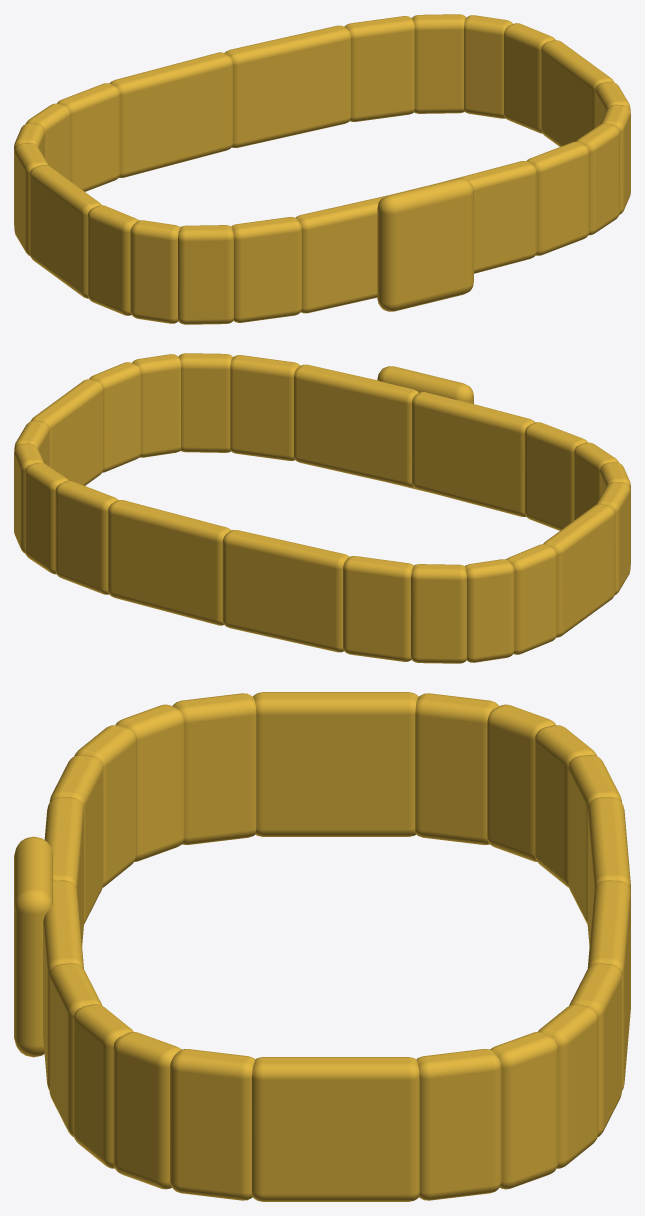
File: gold-belt.glb
3 views of the same model, one above another, from view 1: azimuth 30°, elevation 25°; view 2: azimuth 150°, elevation 25°; view 3: azimuth 270°, elevation 25° (orthographic). The views are drawn at different scales.
Parts seen in each view (by area): view 1: links; view 2: links; view 3: links.
Part boxes in pixels (left/top/right/bottom): links: left=14, top=14, right=630, bottom=324; links: left=14, top=353, right=630, bottom=663; links: left=14, top=692, right=630, bottom=1201.
Bounding box in the file's own units: 1.66 × 0.34 × 1.14.
